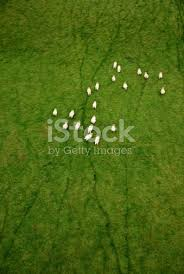sheep: (72, 120, 81, 130), (85, 85, 92, 97), (84, 132, 93, 141), (108, 74, 118, 82), (68, 109, 76, 119), (121, 80, 128, 91), (60, 122, 69, 130), (88, 116, 97, 124), (90, 100, 97, 110), (160, 85, 166, 96), (116, 63, 123, 72), (93, 82, 100, 91), (93, 135, 99, 145), (110, 123, 117, 131), (136, 68, 142, 76), (86, 124, 92, 132), (144, 72, 149, 81), (112, 61, 117, 70), (51, 108, 57, 115), (159, 70, 163, 77)
